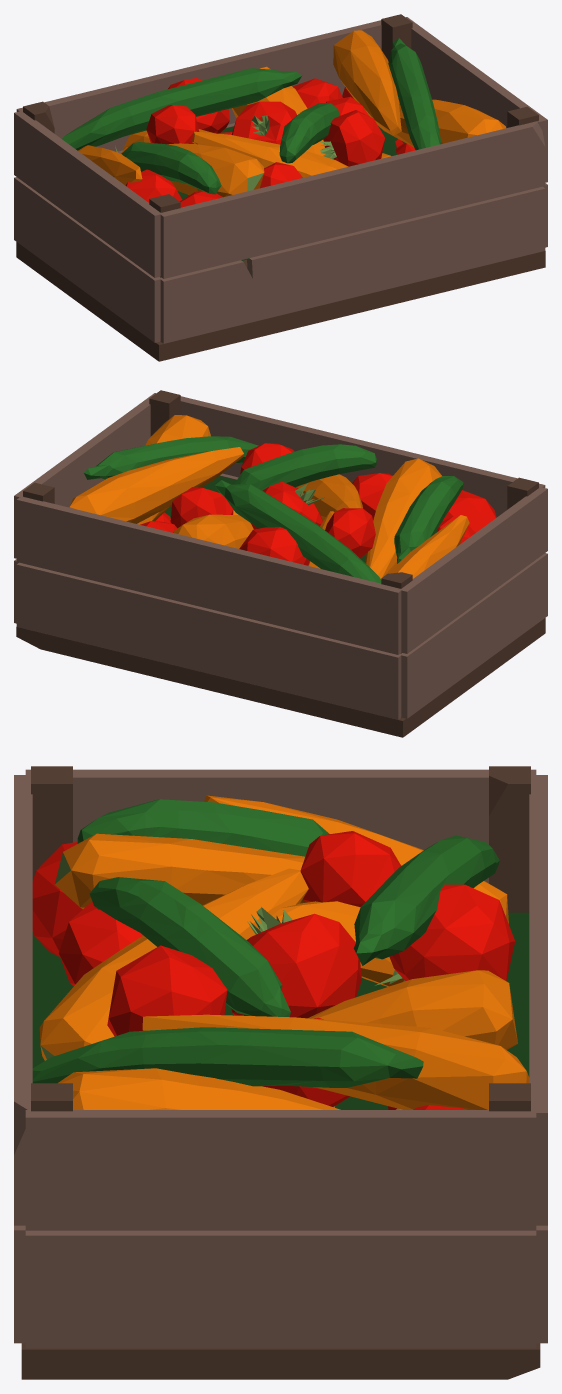
The model's file is Box of vegetables.fbx.
3 views of the same model, one above another, from view 1: azimuth 30°, elevation 25°; view 2: azimuth 150°, elevation 25°; view 3: azimuth 270°, elevation 25° (orthographic). The views are drawn at different scales.
Parts seen in each view (by area): view 1: Box of vegetables; view 2: Box of vegetables; view 3: Box of vegetables.
Boxes of the visible parts, box(x1,y1,x2,y2) form: Box of vegetables: box(14, 14, 547, 361); Box of vegetables: box(14, 390, 547, 737); Box of vegetables: box(14, 766, 547, 1379).
Size of the model in its own units: 2.64 by 1.1 by 1.71.
